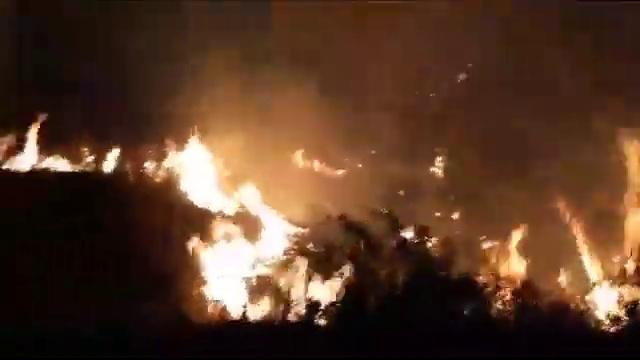fire: (205, 242, 257, 312), (176, 139, 227, 205), (584, 285, 628, 338)
